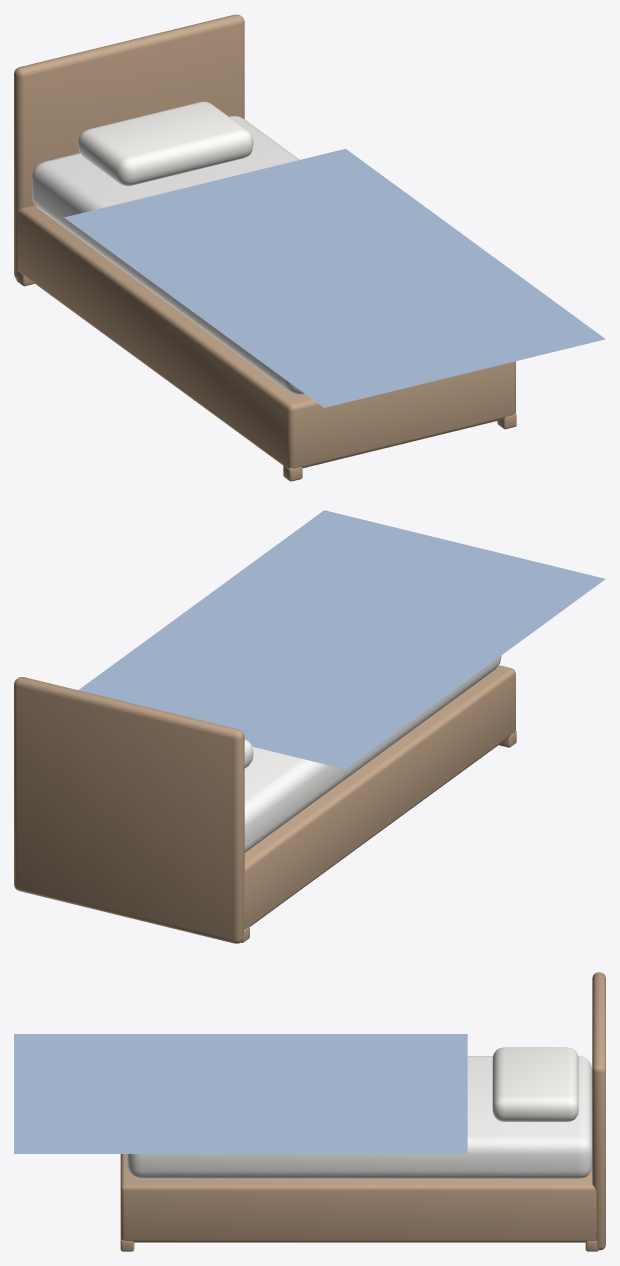
Rendered from Bed.glb.
3 views of the same model, one above another, from view 1: azimuth 30°, elevation 25°; view 2: azimuth 150°, elevation 25°; view 3: azimuth 270°, elevation 25° (orthographic). The views are drawn at different scales.
Visible parts, largest first — view 1: Bed.Soft.Blanket, Bed.Frame, Bed.Headboard, Bed.Mattress, Bed.Pillow; view 2: Bed.Soft.Blanket, Bed.Headboard, Bed.Frame, Bed.Mattress; view 3: Bed.Soft.Blanket, Bed.Frame, Bed.Mattress, Bed.Pillow, Bed.Headboard.
Part boxes in pixels (<box>): Bed.Soft.Blanket: <box>64,148,605,407</box>; Bed.Frame: <box>17,205,515,468</box>; Bed.Headboard: <box>14,14,244,278</box>; Bed.Mattress: <box>32,116,304,394</box>; Bed.Pillow: <box>78,101,253,185</box>; Bed.Soft.Blanket: <box>78,510,605,769</box>; Bed.Headboard: <box>14,677,244,943</box>; Bed.Frame: <box>244,665,515,929</box>; Bed.Mattress: <box>244,656,501,852</box>; Bed.Soft.Blanket: <box>14,1034,467,1153</box>; Bed.Frame: <box>120,1154,596,1242</box>; Bed.Mattress: <box>127,1056,592,1179</box>; Bed.Pillow: <box>492,1047,578,1121</box>; Bed.Headboard: <box>592,972,605,1250</box>.
Bounding box in the file's own units: 1.25 × 0.9 × 2.61.
